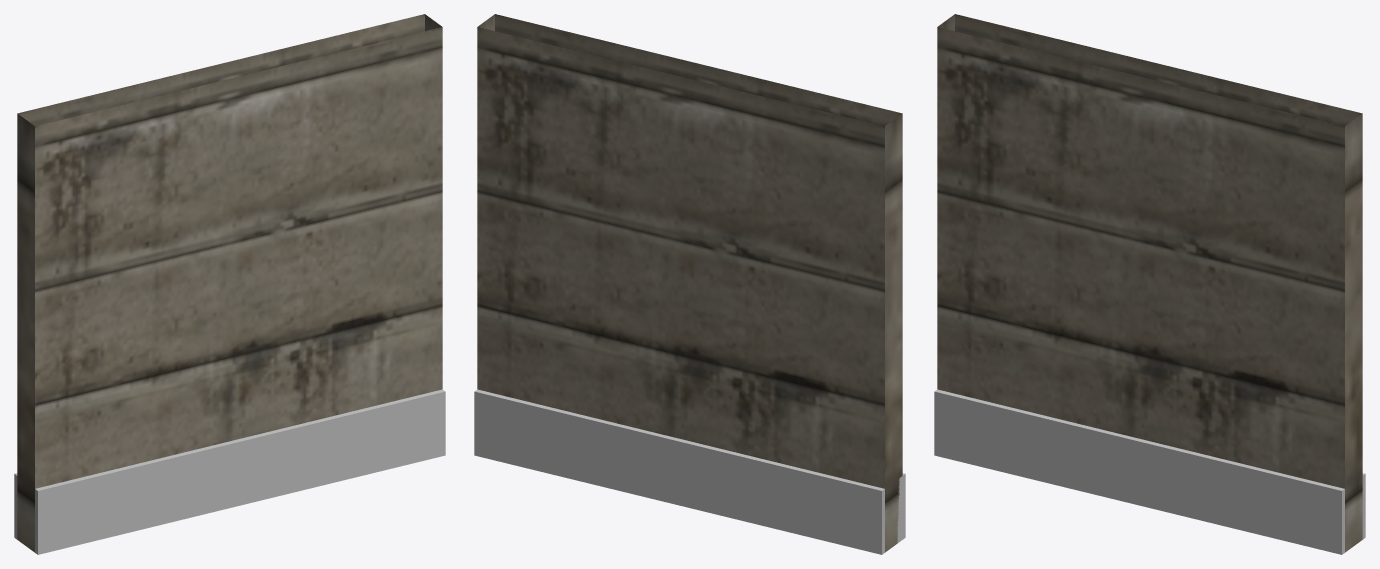
The model's file is MO_WALL_S_02.fbx.
3 views of the same model, side by side, from view 1: azimuth 30°, elevation 25°; view 2: azimuth 150°, elevation 25°; view 3: azimuth 330°, elevation 25° (orthographic).
Visible parts, largest first — view 1: MO_WALL_S_02; view 2: MO_WALL_S_02; view 3: MO_WALL_S_02.
Part boxes in pixels (x1,y1,x2,y2): MO_WALL_S_02: (14, 14, 445, 554); MO_WALL_S_02: (474, 14, 905, 554); MO_WALL_S_02: (934, 14, 1365, 554).
Bounding box in the file's own units: 4 × 4 × 0.4.
